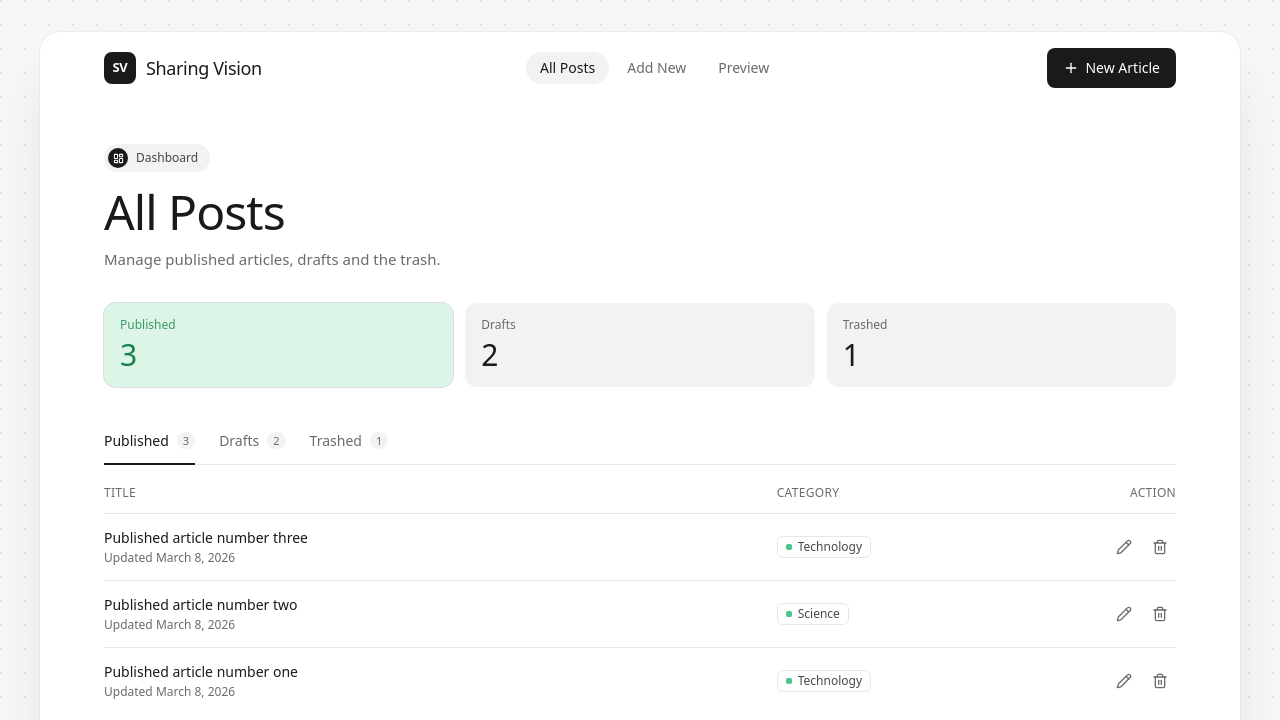
Test: All Posts page › moves a published article to Trashed with PUT status "thrash" and refreshes
Click the button named "Move to trash" in the row of "Published article number three" at (1160, 546), box [1144,530,1176,562]
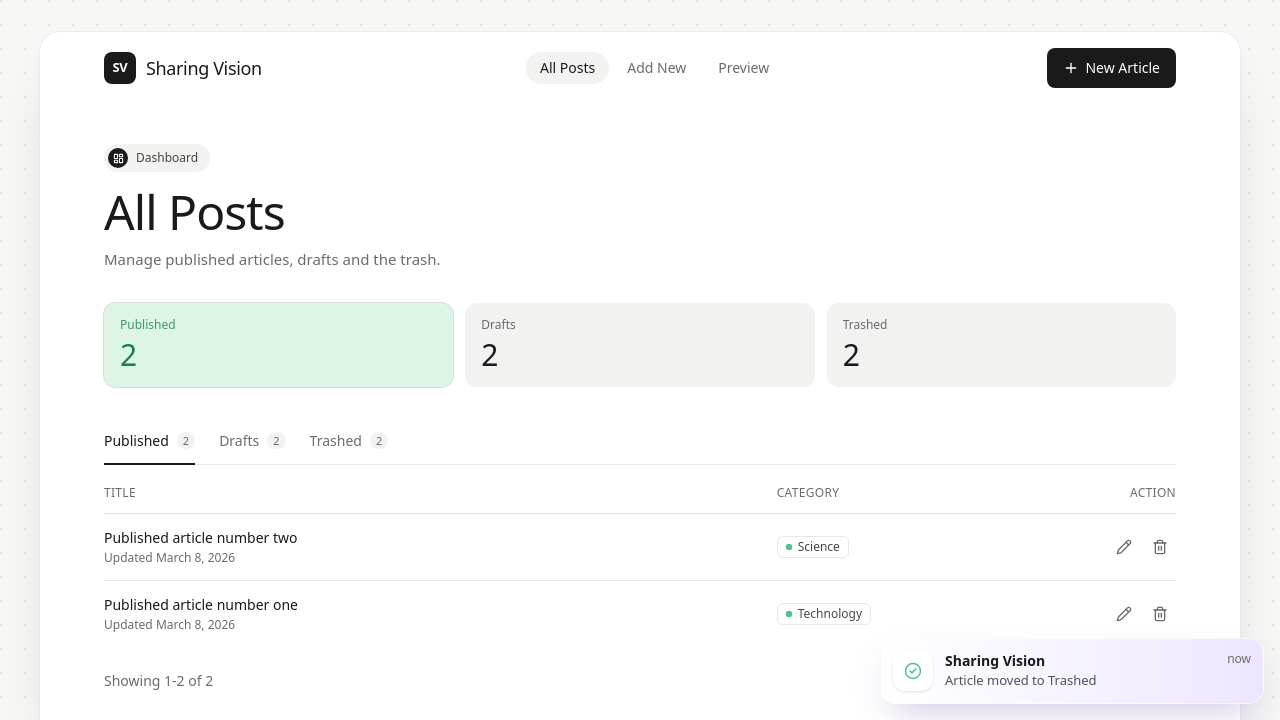
Result: the text "Article moved to Trashed" is shown at [945,671,1097,689]
Result: the text "Published article number three" is gone
Result: the 4th text "2" is shown at [177,432,195,449]
